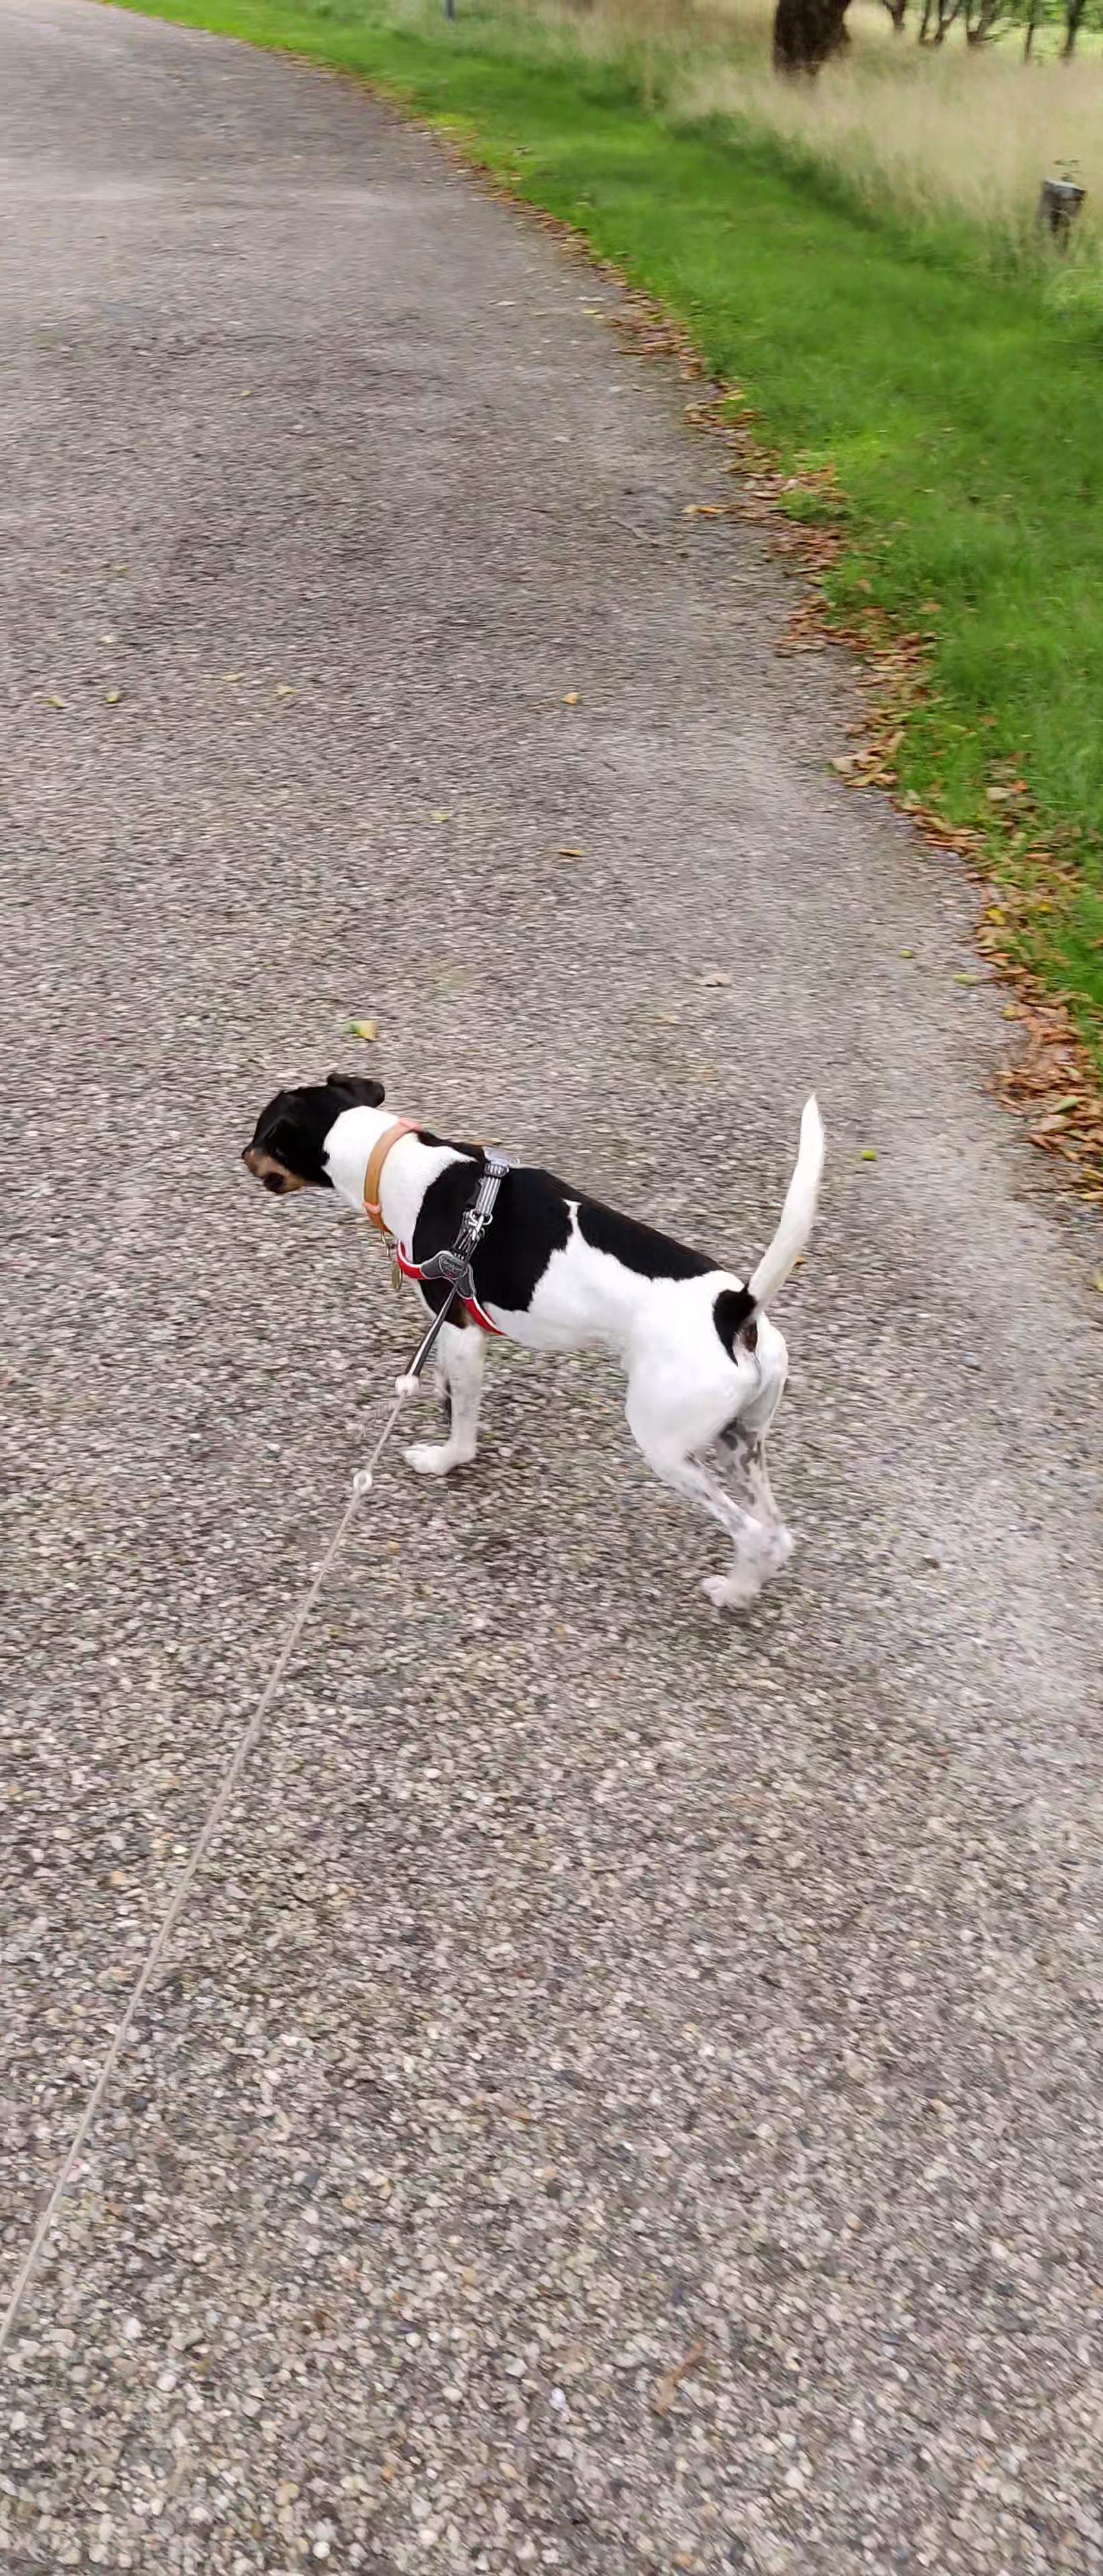Dog: (233, 1066, 835, 1617)
